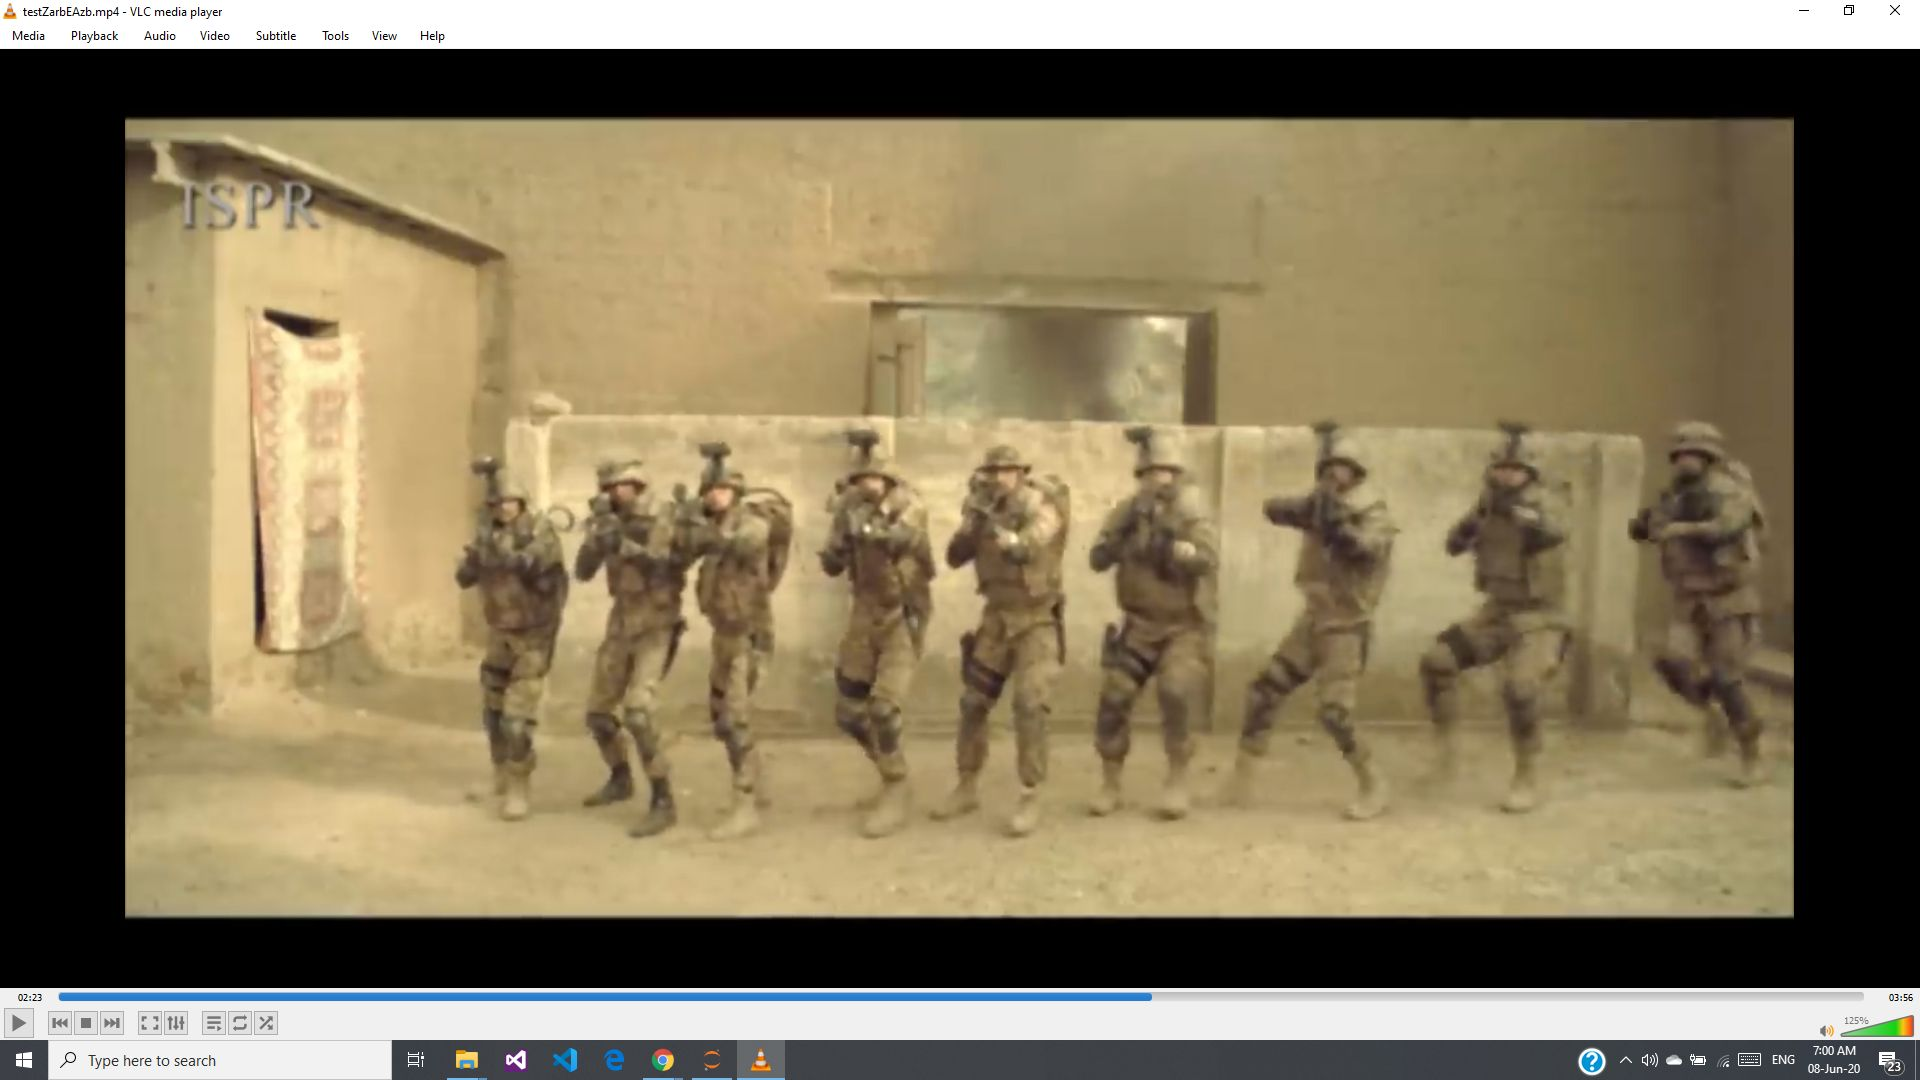gun: (1465, 464, 1548, 543), (945, 467, 1033, 541), (828, 481, 916, 543), (1114, 455, 1174, 545), (1294, 493, 1374, 558), (659, 483, 731, 553), (458, 506, 527, 570), (567, 483, 630, 550)
uniform: (1379, 410, 1604, 800), (1092, 419, 1242, 812), (1627, 398, 1764, 781), (1269, 426, 1404, 810), (667, 450, 798, 825), (574, 444, 695, 815), (824, 433, 940, 818), (444, 451, 566, 804), (961, 442, 1055, 833)
